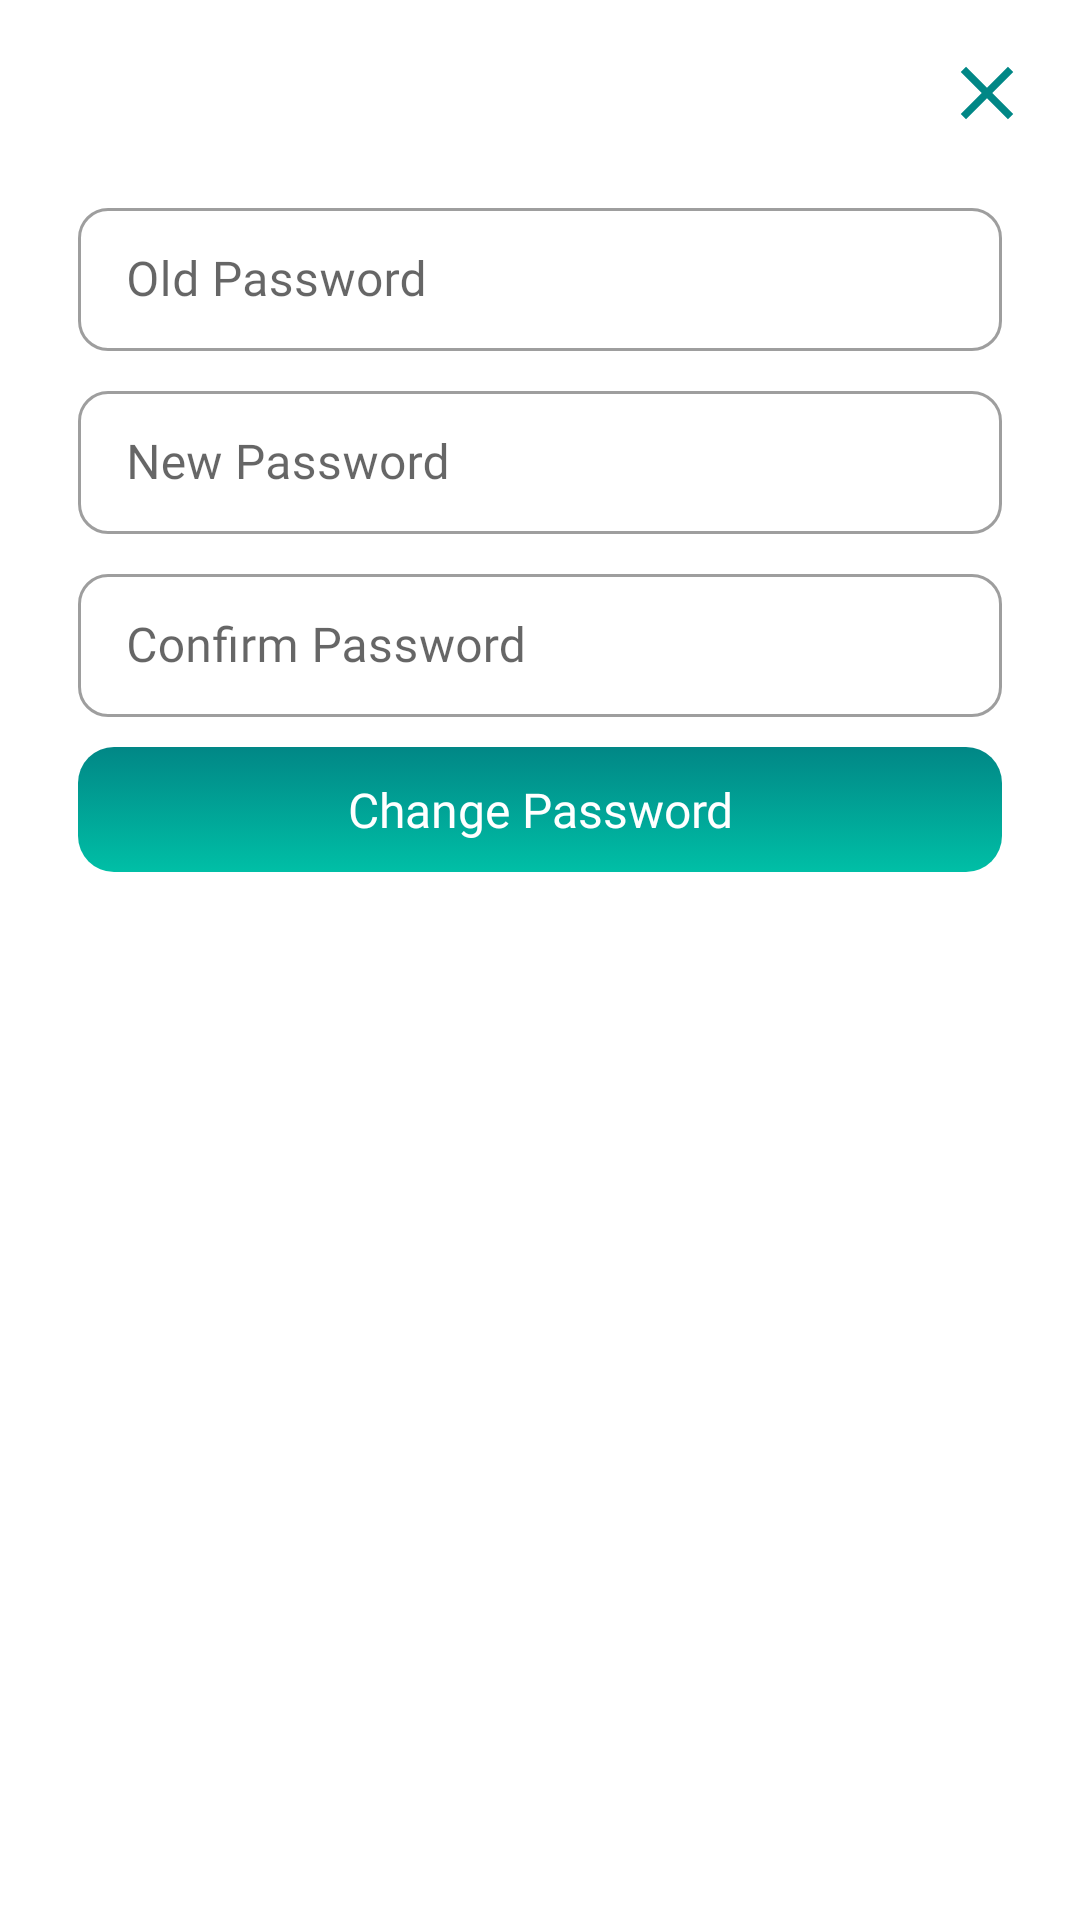

Icon bounding boxes for this 1080 x 1920 phone screenshot, format region(x1, y1, x2, y2):
close: region(961, 67, 1013, 119)
